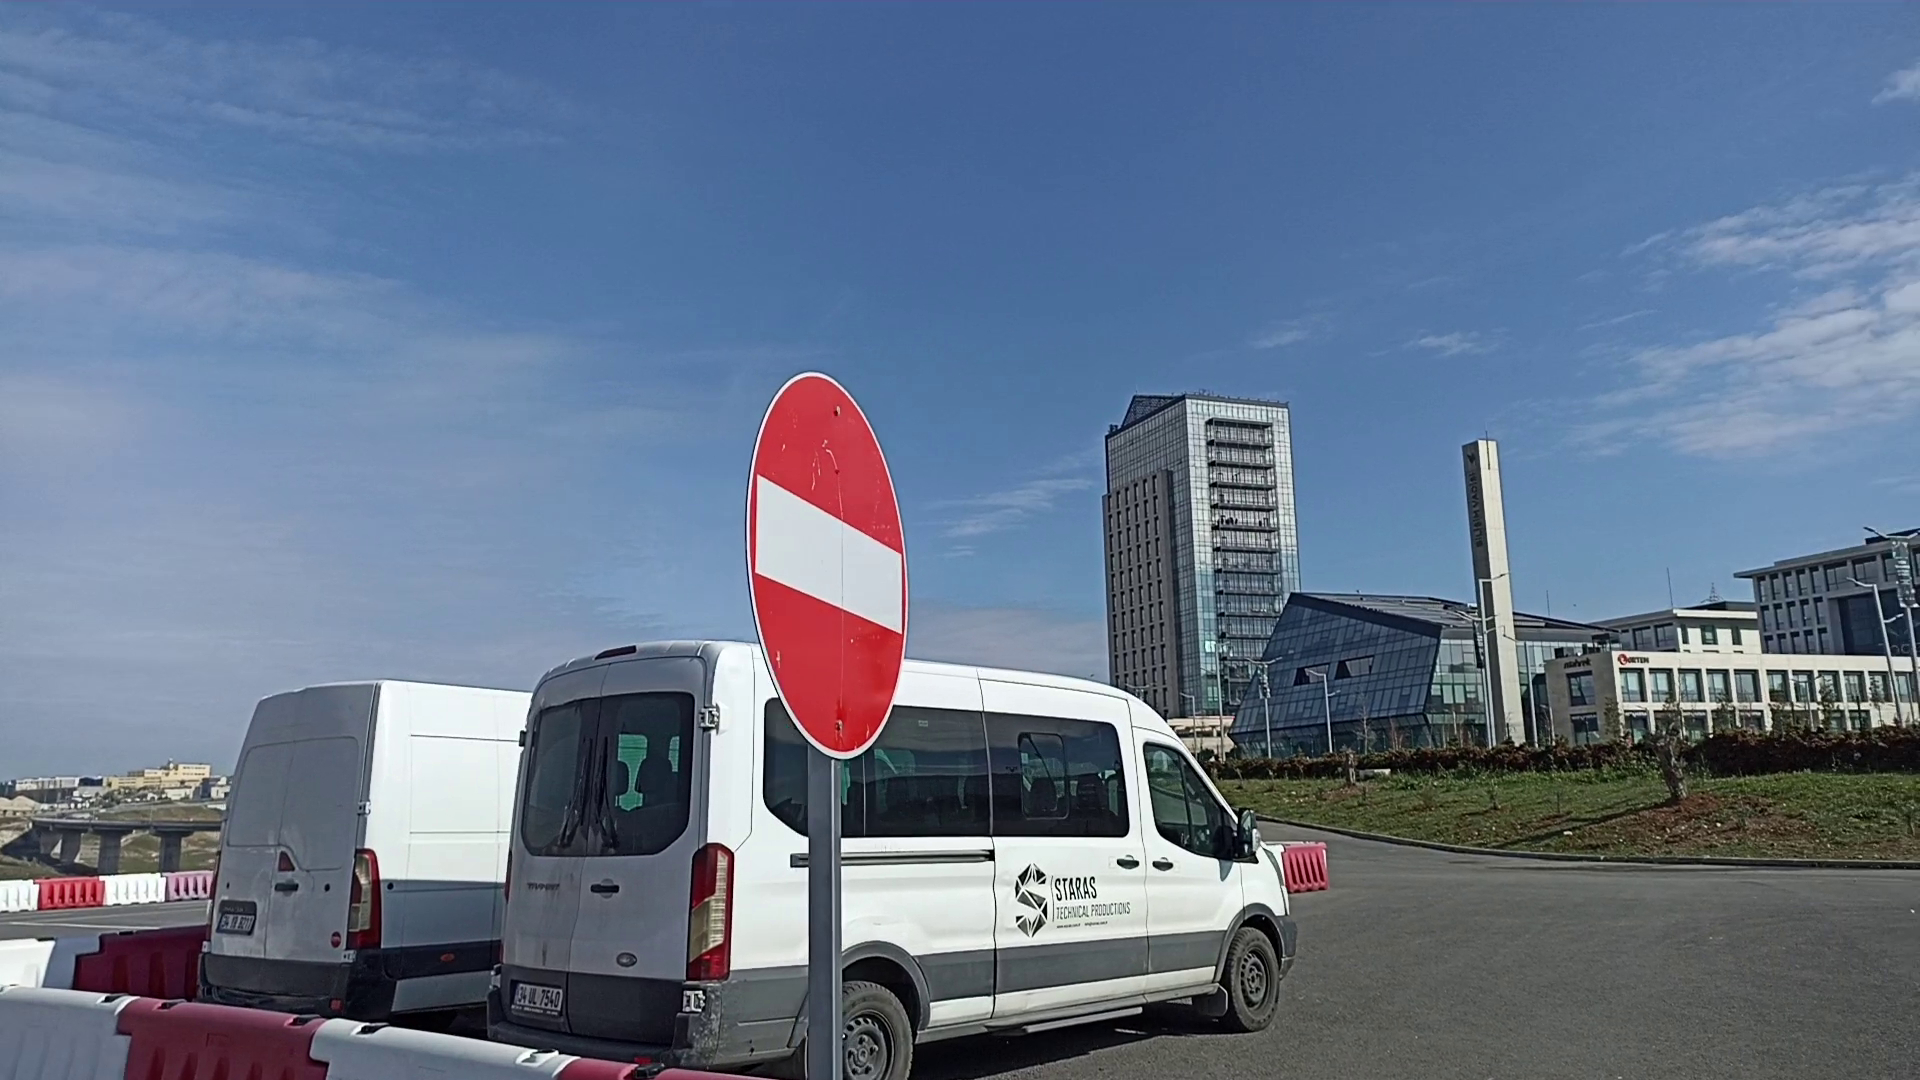noentryway: (738, 363, 913, 760)
